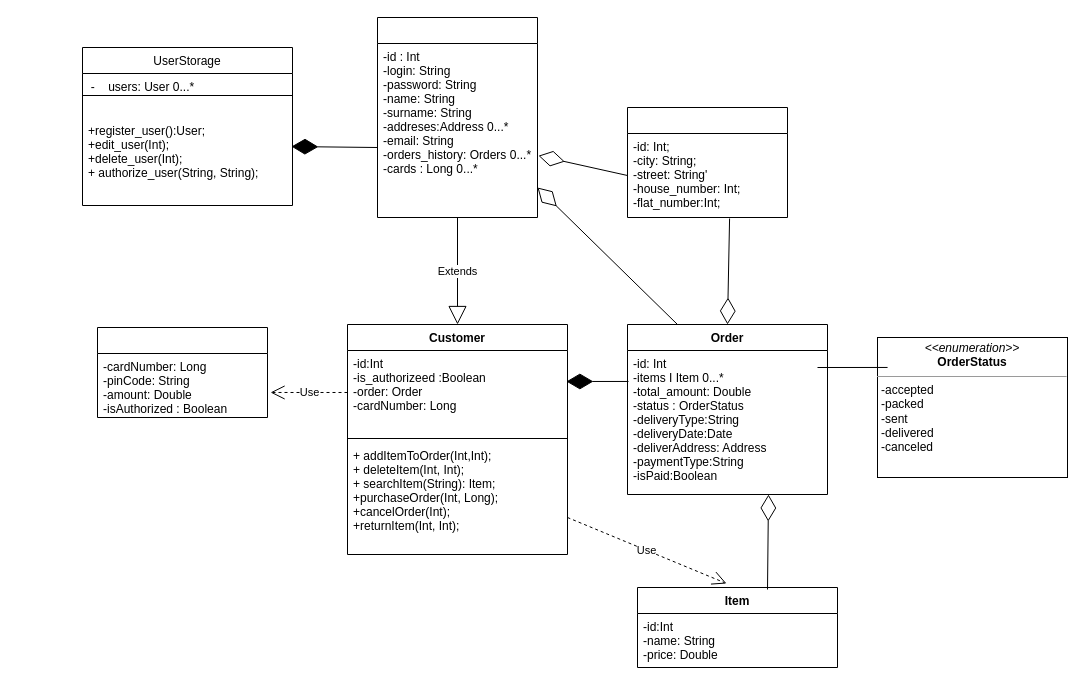
Some shapes in this 1085 by 688 pixel diagram are drawn without their labels. The shapes that lost their labels are listed below. From the top down, each one's box as (x1, y1, x2, y2) in pixels, then its label:
(376, 16, 538, 218): User
(626, 106, 788, 218): Address
(96, 326, 268, 418): CreditCard
